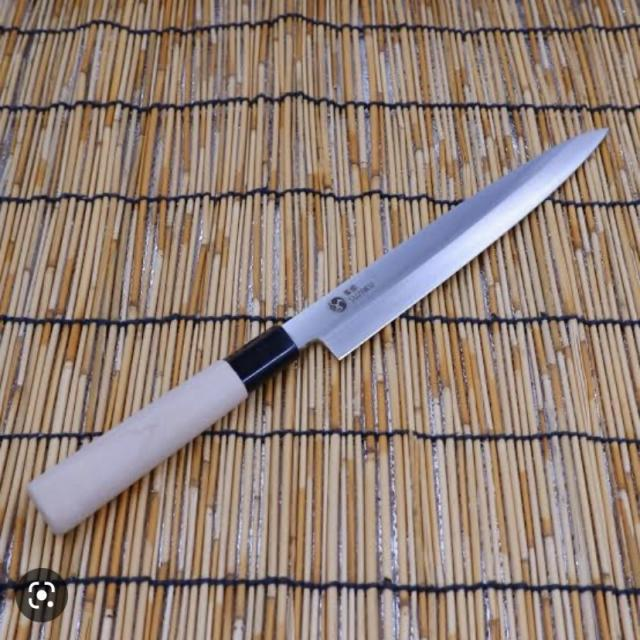Knife: (11, 112, 625, 582)
